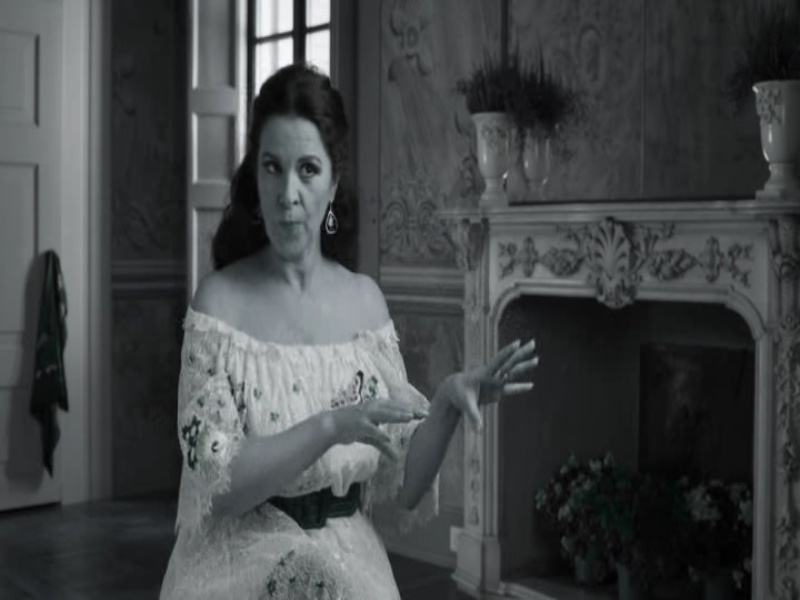TsisyArotava: (240, 76, 344, 272)
